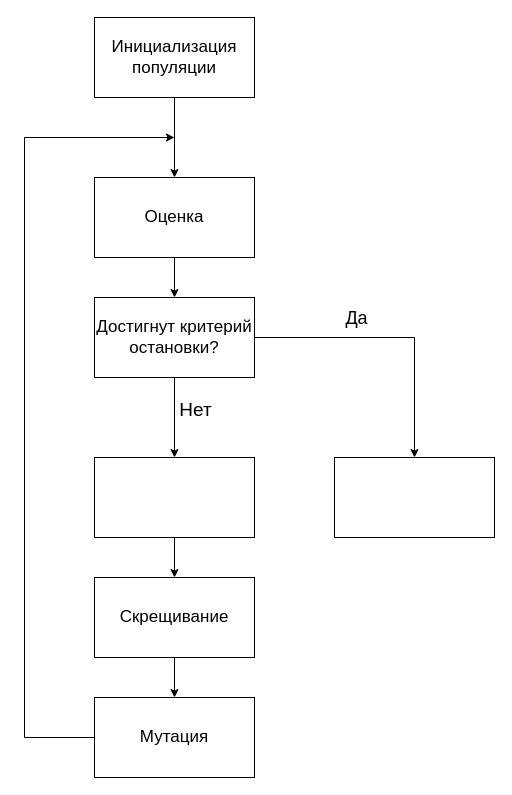
This 512x795 diagram has some shape labels left out. The centre of each missing label's shape, as x and y in pixels:
Вывод лучшего решения: (x=414, y=497)
Селекция: (x=174, y=497)
